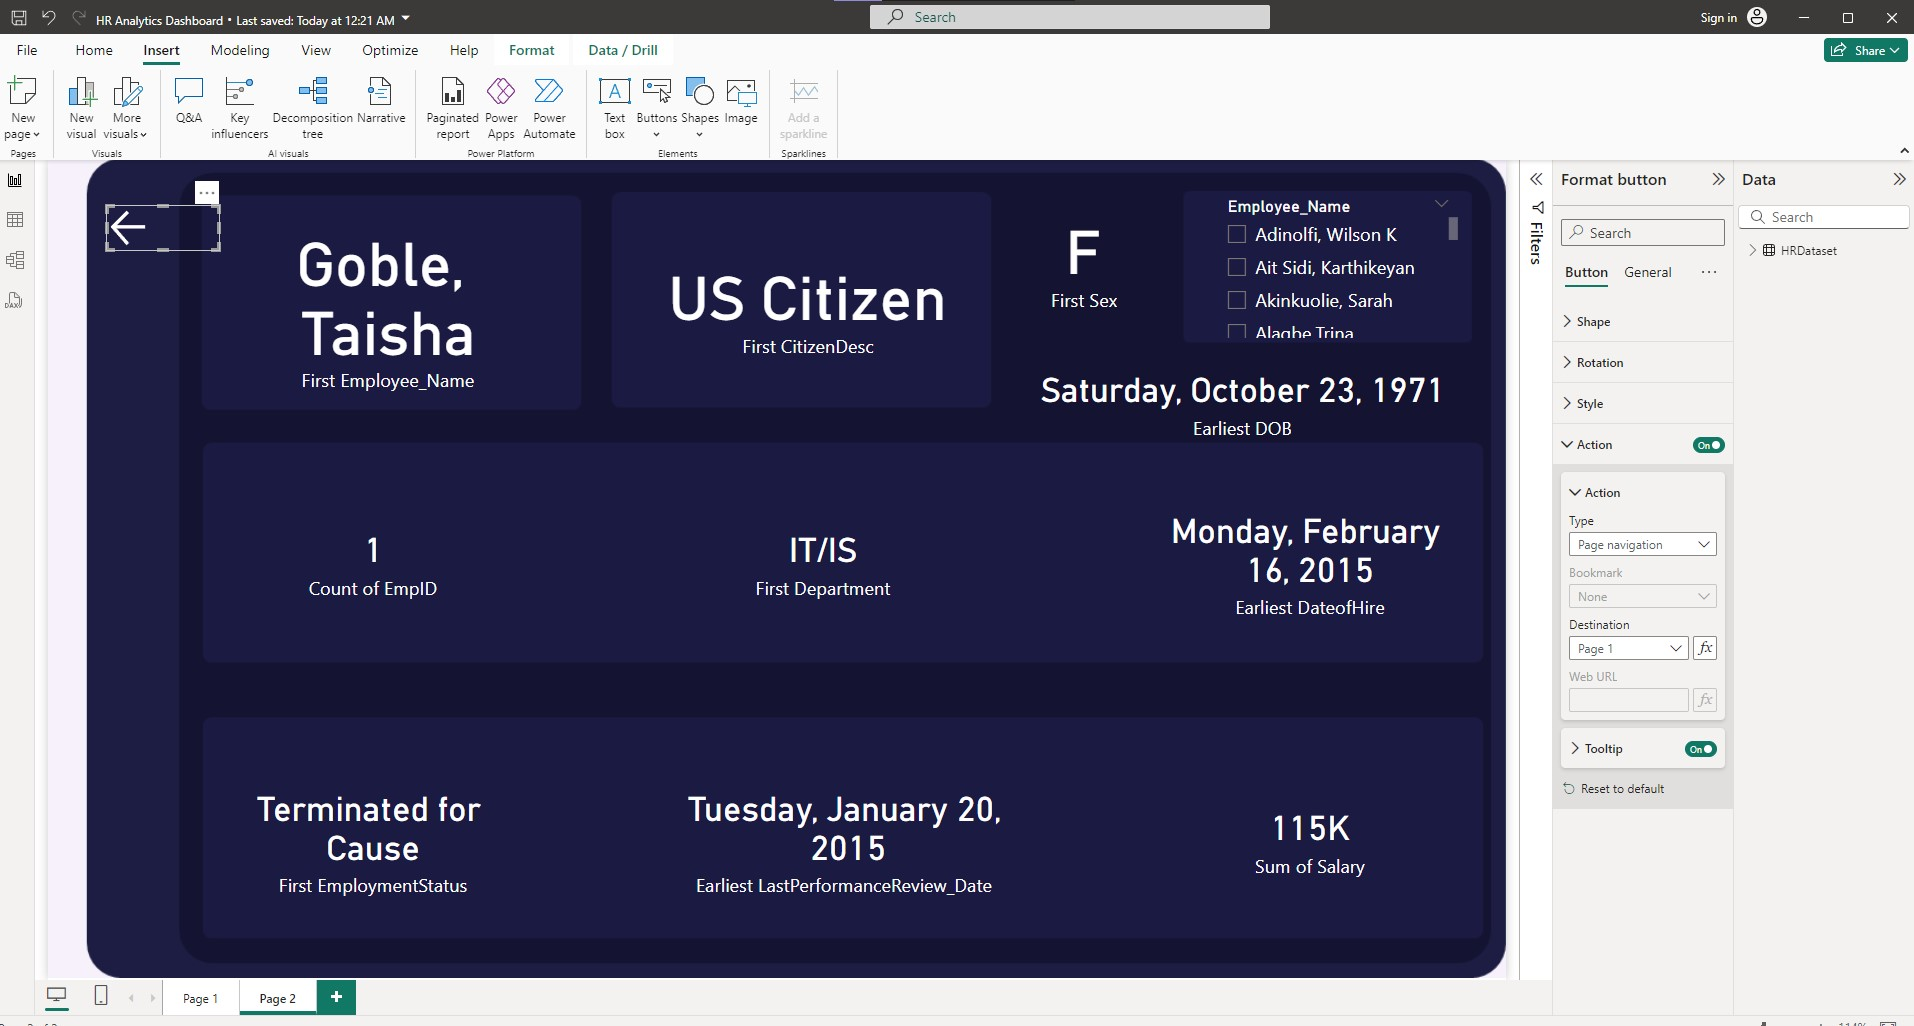

The dashboard page shown, as its layout file describes it:
{"tool":"powerbi","page":{"name":"Page 2","canvas":[1280,720],"ordinal":1},"visuals":[{"type":"card","fields":{"Values":["Min(HRDataset.Employee_Name)"]},"box":[151,39.5,295,171.2],"z":0},{"type":"card","fields":{"Values":["Min(HRDataset.CitizenDesc)"]},"box":[519.8,39.5,295,171.2],"z":1000},{"type":"card","fields":{"Values":["Min(HRDataset.Sex)"]},"box":[790.2,15.8,238.8,137.9],"z":2000},{"type":"card","fields":{"Values":["Min(HRDataset.DOB)"]},"box":[834.1,173.9,429.4,73.8],"z":3000},{"type":"card","fields":{"Values":["CountNonNull(HRDataset.EmpID)"]},"box":[151,282.7,268.7,137],"z":4000},{"type":"card","fields":{"Values":["Min(HRDataset.Department)"]},"box":[546.1,282.7,268.7,137],"z":5000},{"type":"card","fields":{"Values":["Min(HRDataset.DateofHire)"]},"box":[973.8,282.7,268.7,137],"z":6000},{"type":"card","fields":{"Values":["Min(HRDataset.EmploymentStatus)"]},"box":[151,526.8,268.7,137],"z":7000},{"type":"card","fields":{"Values":["Min(HRDataset.LastPerformanceReview_Date)"]},"box":[546.1,526.8,305.6,137],"z":8000},{"type":"card","fields":{"Values":["Sum(HRDataset.Salary)"]},"box":[973.8,526.8,268.7,137],"z":9000},{"type":"slicer","fields":{"Values":["HRDataset.Employee_Name"]},"box":[1022.9,27.2,219.5,134.3],"z":10000},{"type":"actionButton","box":[50.9,39.5,100.1,40.4],"z":10001}]}

Visuals, with their boxes on the page's 1280x720 design canvas (x1, y1, x2, y2). These are canvas units, not pixel positions in the 1914x1026 screenshot, which may show the page scaled, cropped or inside an application window:
card - Min(HRDataset.Employee_Name): <region>151, 40, 446, 211</region>
card - Min(HRDataset.CitizenDesc): <region>520, 40, 815, 211</region>
card - Min(HRDataset.Sex): <region>790, 16, 1029, 154</region>
card - Min(HRDataset.DOB): <region>834, 174, 1264, 248</region>
card - CountNonNull(HRDataset.EmpID): <region>151, 283, 420, 420</region>
card - Min(HRDataset.Department): <region>546, 283, 815, 420</region>
card - Min(HRDataset.DateofHire): <region>974, 283, 1242, 420</region>
card - Min(HRDataset.EmploymentStatus): <region>151, 527, 420, 664</region>
card - Min(HRDataset.LastPerformanceReview_Date): <region>546, 527, 852, 664</region>
card - Sum(HRDataset.Salary): <region>974, 527, 1242, 664</region>
slicer - HRDataset.Employee_Name: <region>1023, 27, 1242, 162</region>
actionButton: <region>51, 40, 151, 80</region>
